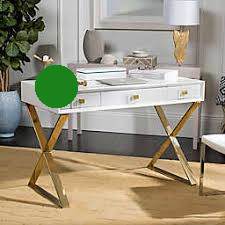focus: (30, 63, 85, 113)
